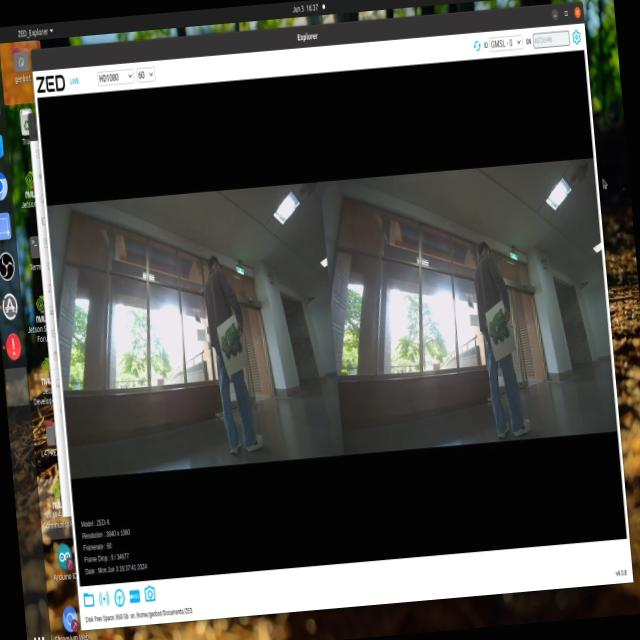green: (482, 301, 516, 349), (216, 321, 244, 358)
